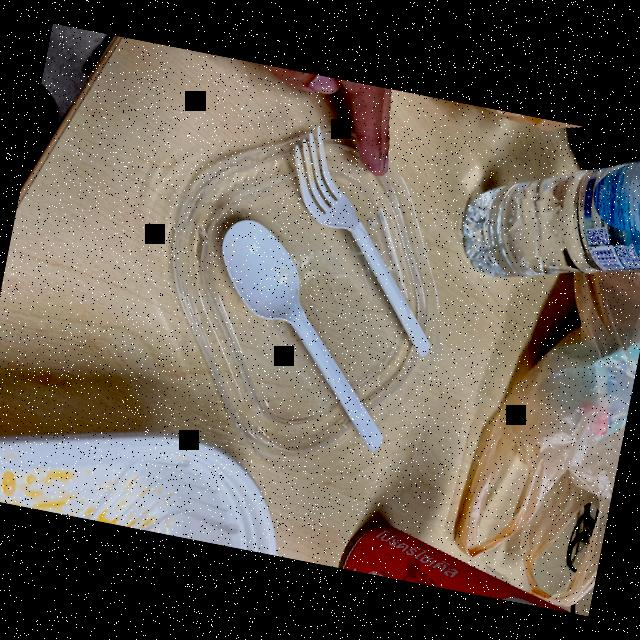plastic_spoon: (182, 208, 432, 460), (253, 118, 472, 358)
